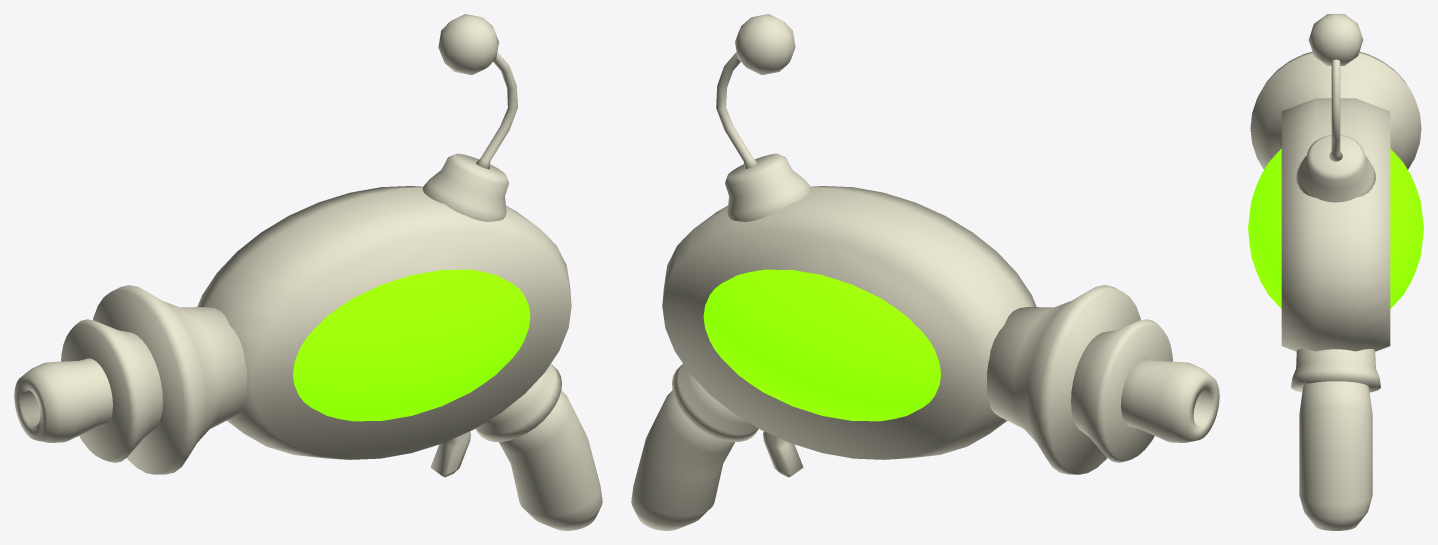
Rendered from Blaster.fbx.
3 renders of one model, left to right at view 1: azimuth 30°, elevation 25°; view 2: azimuth 150°, elevation 25°; view 3: azimuth 270°, elevation 25°, orthographic. The views are drawn at different scales.
Parts seen in each view (by area): view 1: Blaster; view 2: Blaster; view 3: Blaster.
Part boxes in pixels (x1,y1,x2,y2): Blaster: (14,14,602,530); Blaster: (631,14,1219,530); Blaster: (1248,14,1423,530).
Size of the model in its own units: 115 by 103 by 35.09.
